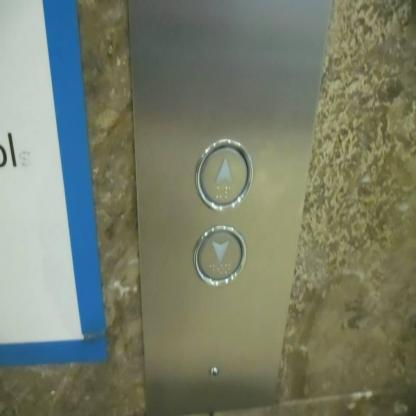down: (192, 222, 247, 288)
up: (192, 138, 254, 213)
